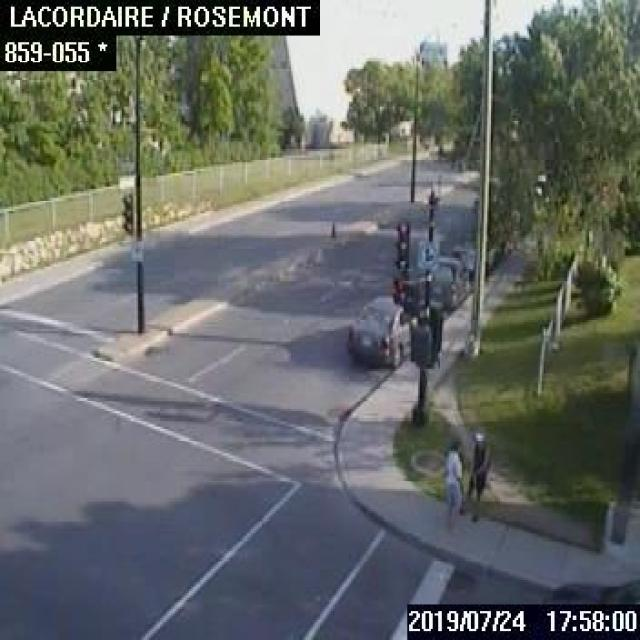pedestrian: (459, 430, 489, 521), (442, 436, 461, 526)
vehicle: (347, 294, 417, 362), (430, 256, 469, 304)
